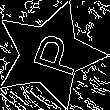P_W: (18, 29, 81, 81)
